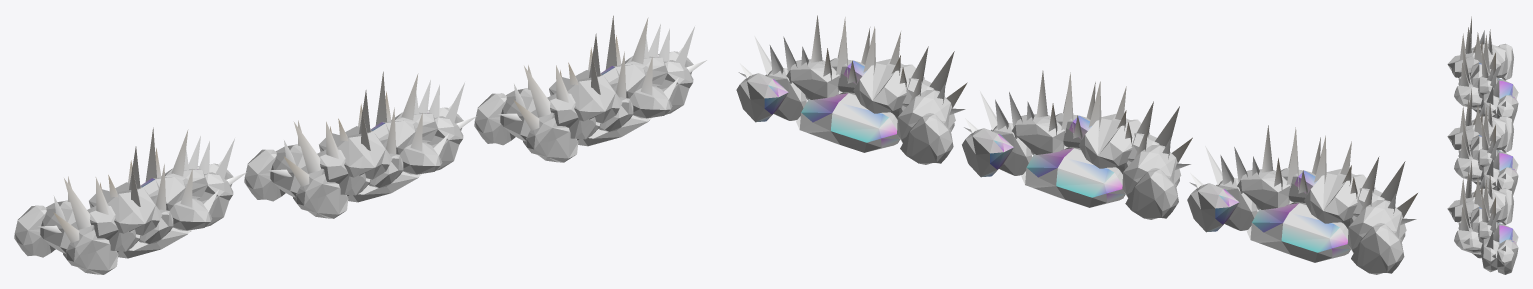
The model's file is Pinches_En_Rocas.fbx.
3 views of the same model, side by side, from view 1: azimuth 30°, elevation 25°; view 2: azimuth 150°, elevation 25°; view 3: azimuth 270°, elevation 25° (orthographic). The views are drawn at different scales.
Visible parts, largest first — view 1: Pinches_En_Rocas_01, Pinches_En_Rocas_02, Pinches_En_Rocas_03; view 2: Pinches_En_Rocas_02, Pinches_En_Rocas_03, Pinches_En_Rocas_01; view 3: Pinches_En_Rocas_03, Pinches_En_Rocas_02, Pinches_En_Rocas_01.
Boxes of the visible parts, x1,y1,x2,y2 form: Pinches_En_Rocas_01: (14, 127, 246, 274); Pinches_En_Rocas_02: (244, 71, 476, 218); Pinches_En_Rocas_03: (474, 15, 706, 162); Pinches_En_Rocas_02: (962, 70, 1192, 219); Pinches_En_Rocas_03: (736, 15, 967, 164); Pinches_En_Rocas_01: (1187, 125, 1417, 274); Pinches_En_Rocas_03: (1447, 161, 1518, 274); Pinches_En_Rocas_02: (1447, 88, 1518, 195); Pinches_En_Rocas_01: (1447, 16, 1518, 123).
Size of what is drawn, in the model's own units: 2326 by 403 by 325.
